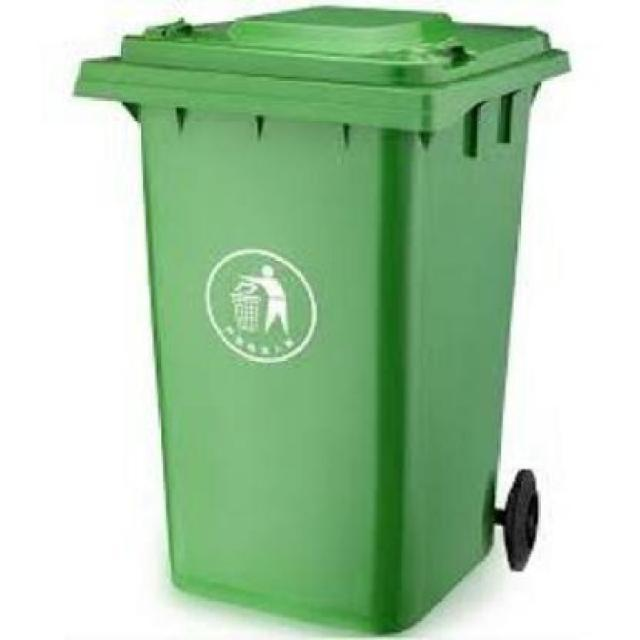garbage container: (59, 2, 559, 640)
